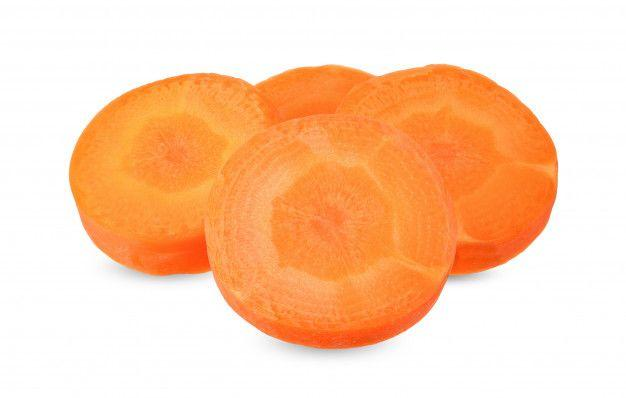buah_sayur_vitA: (251, 141, 402, 322), (109, 106, 204, 250), (454, 96, 522, 236), (281, 77, 340, 114)
